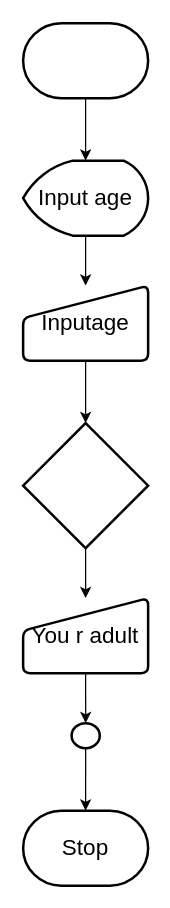
The diagram is 170 pixels wide and 908 high, and some of its shapes have lost their labels. The shapes that lost their labels are listed below. From the top down, each one's box as (x1, y1, x2, y2) in pixels, then its label:
(21, 21, 149, 99): START
(21, 421, 149, 549): Age >=18
